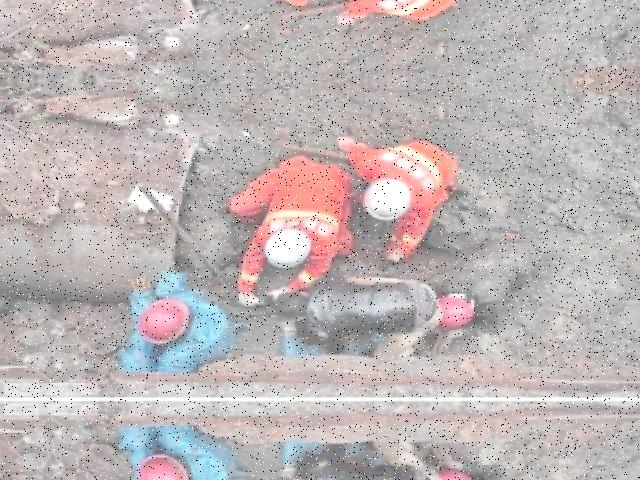Helmet: (138, 294, 196, 348), (360, 177, 418, 223), (259, 226, 316, 272), (434, 290, 479, 331)
